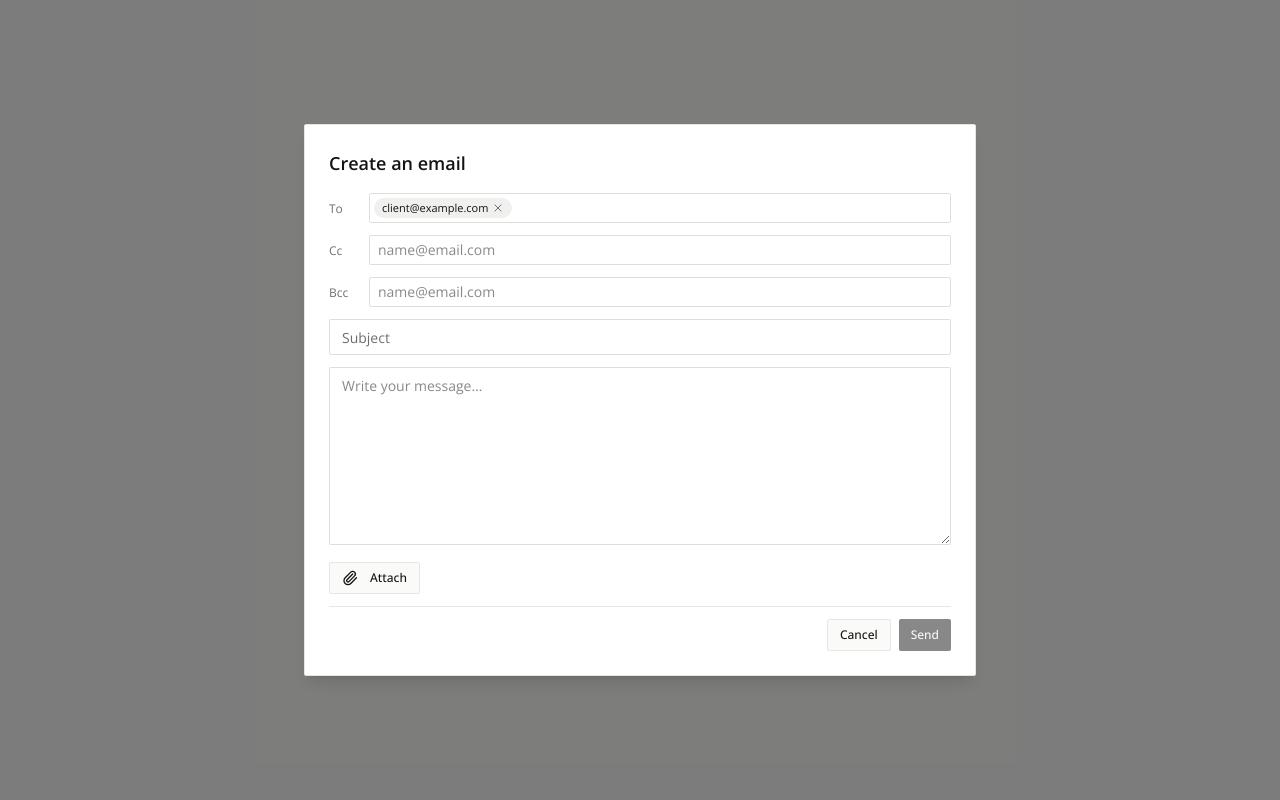
Scenario: CreateEmailComposer draft discard › Cancel clears subject + body
In the field with test id "email-composer-subject": (640, 337) [329,319,951,355], type "test subject"
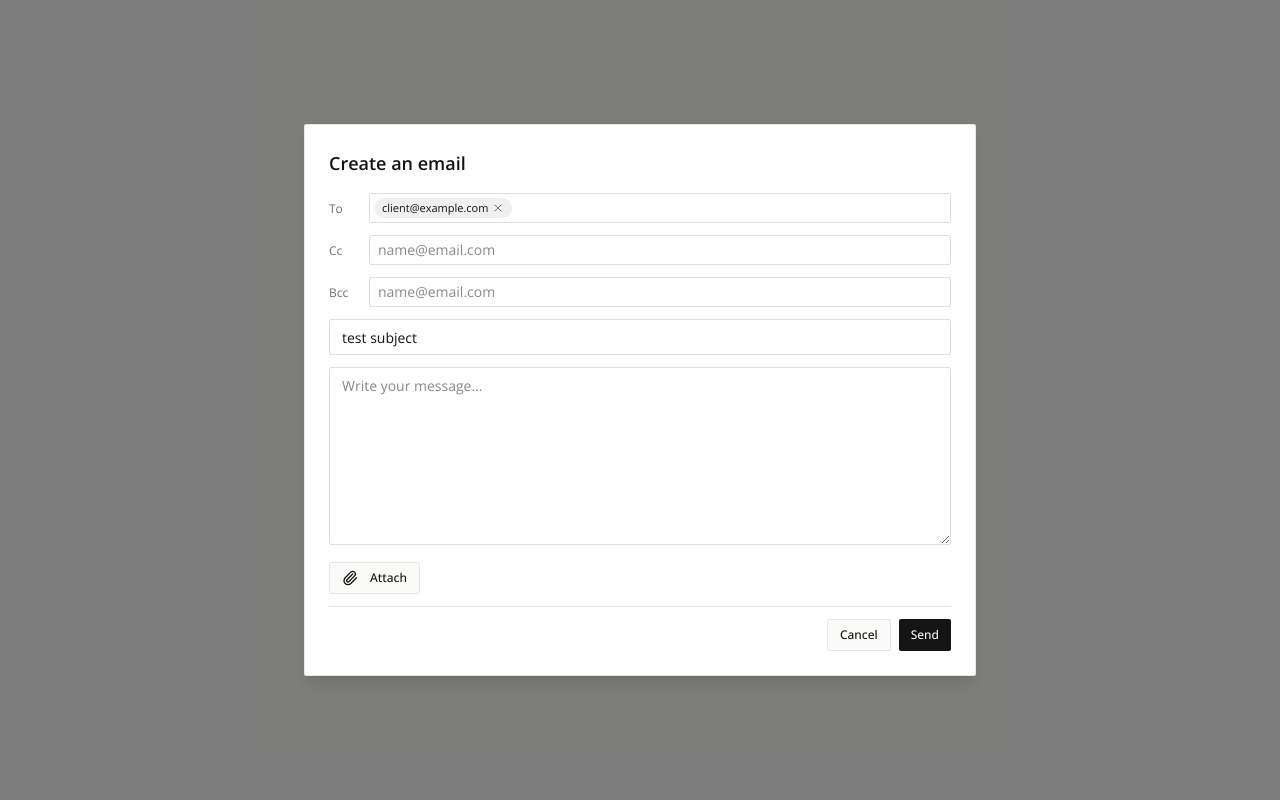
In the text box with test id "email-composer-body": (640, 456) [329,367,951,545], type "test body"
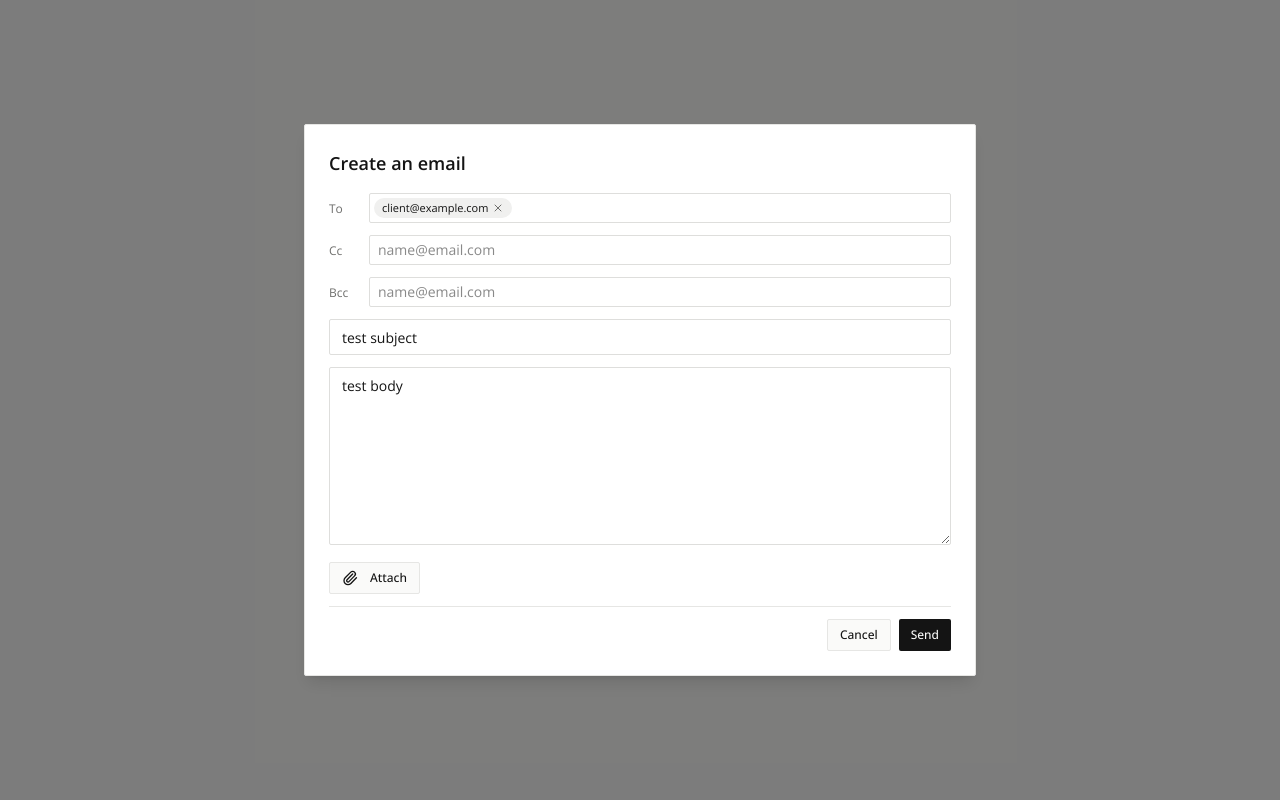
Click the button with test id "email-composer-cancel": (859, 635) [827,619,891,651]
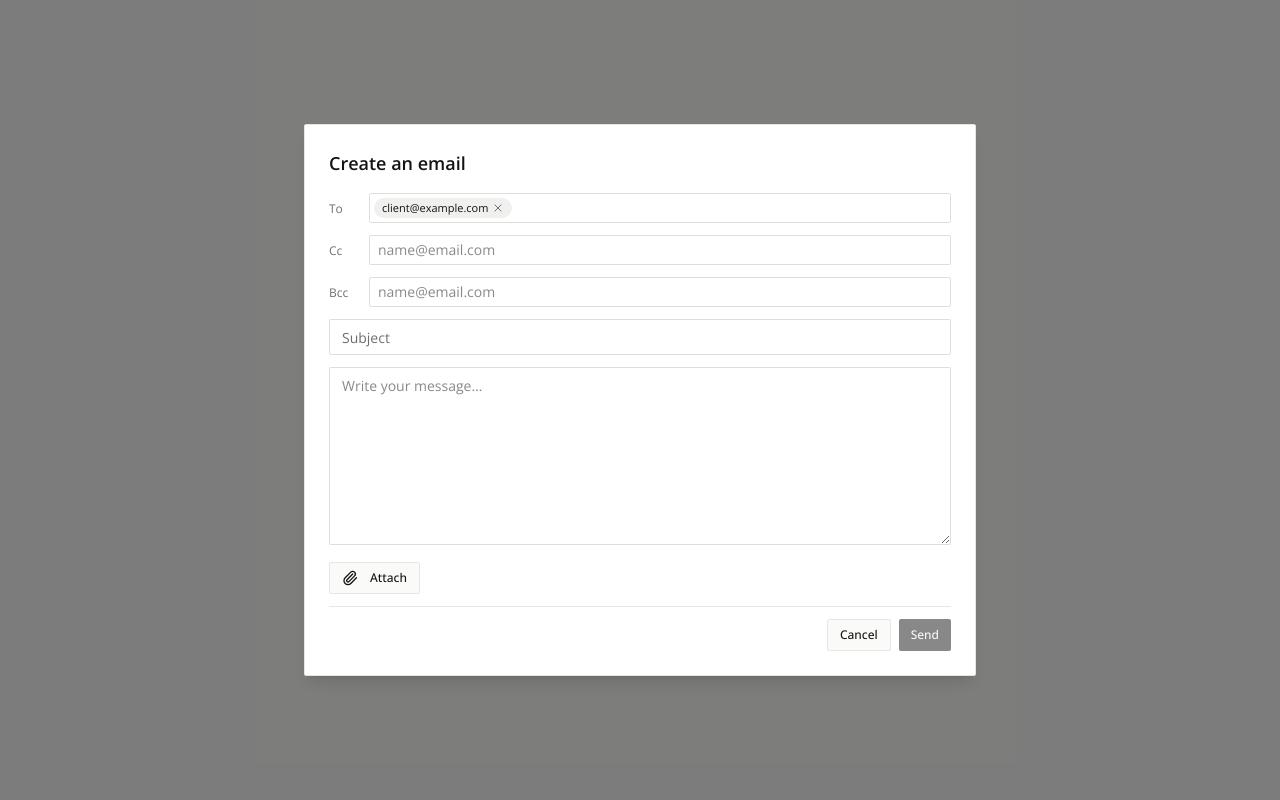
Result: the field with test id "email-composer-subject" is empty at [329,319,951,355]
Result: the text box with test id "email-composer-body" is empty at [329,367,951,545]
